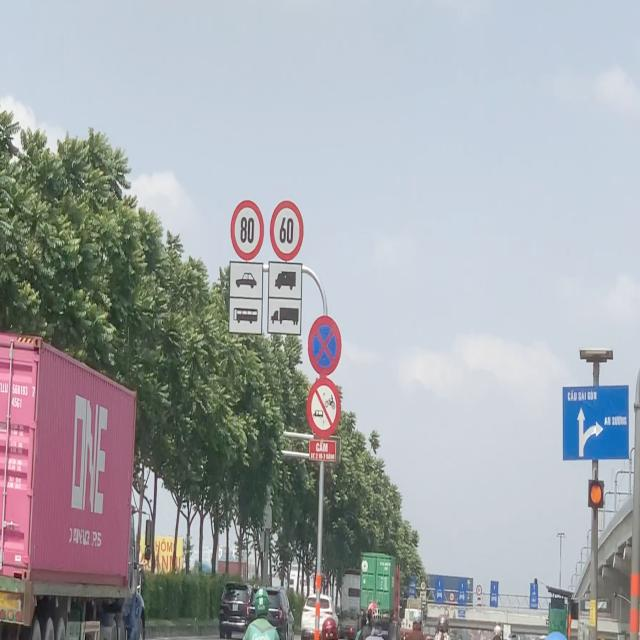Cam con lai: (306, 379, 341, 438)
Cam dung va do: (306, 312, 344, 378)
Toc do toi da: (228, 198, 266, 262), (269, 198, 305, 262), (448, 591, 454, 602), (477, 584, 482, 596)
